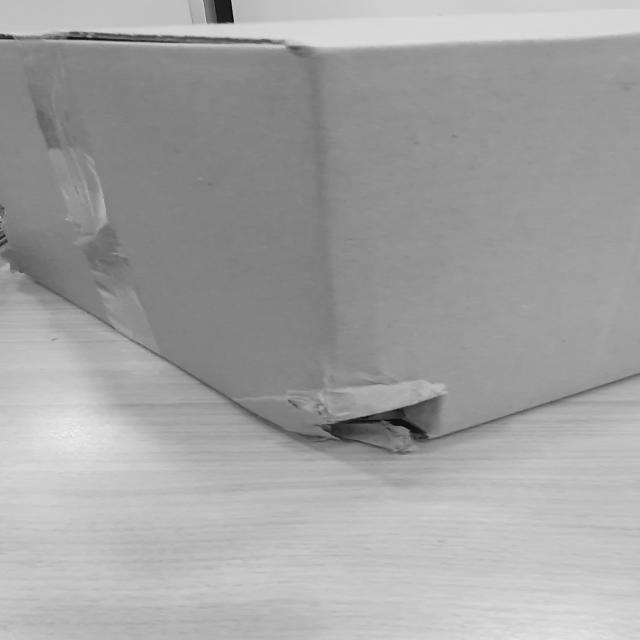hole: (312, 378, 453, 456)
